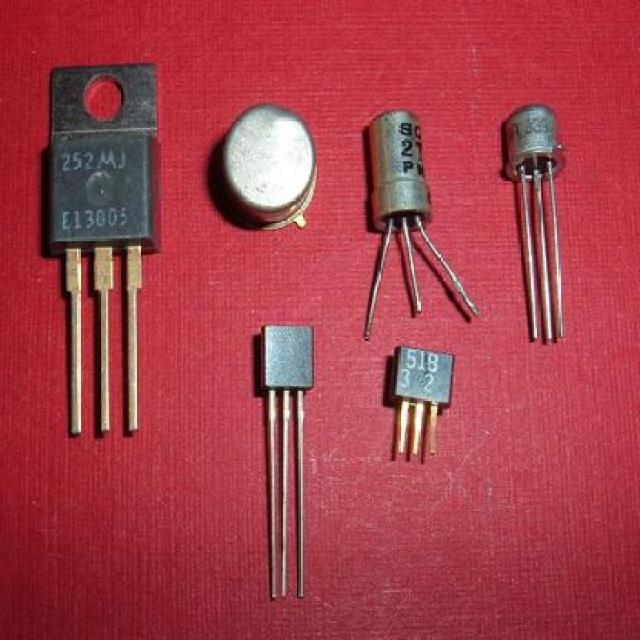Transistor: (46, 65, 155, 258), (500, 105, 566, 345), (209, 105, 318, 232), (363, 111, 432, 242), (388, 346, 455, 462), (258, 326, 317, 397)
